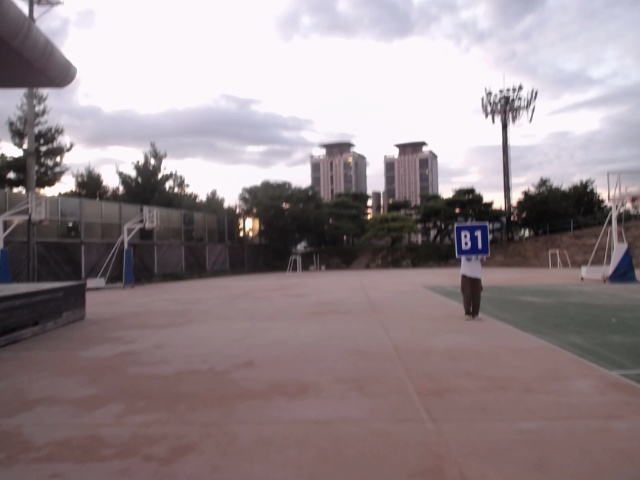delivery_b1: (455, 223, 490, 256)
